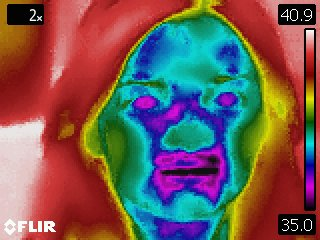human: (57, 1, 280, 240)
